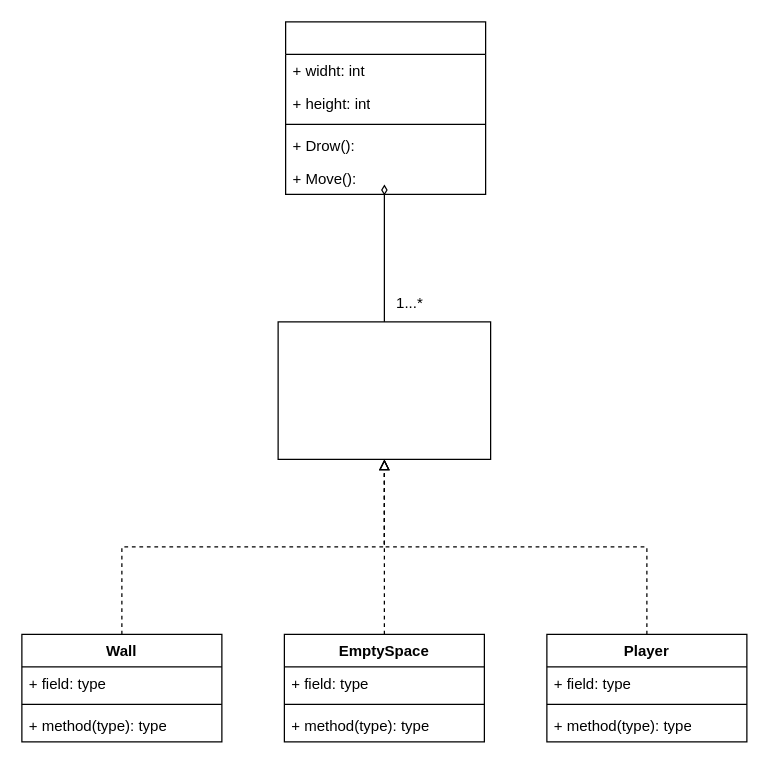
Some shapes in this 769 by 768 pixel diagram are drawn without their labels. The shapes that lost their labels are listed below. From the top down, each one's box as (x1, y1, x2, y2) in pixels, then its label:
(284, 21, 486, 194): Maze
(277, 321, 491, 459): «interface» IMazeObject
